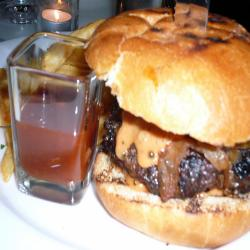burger: (83, 6, 250, 247)
